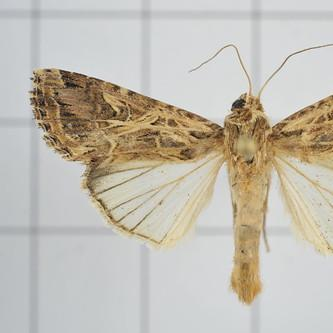Spodoptera litura: (27, 44, 333, 304)
